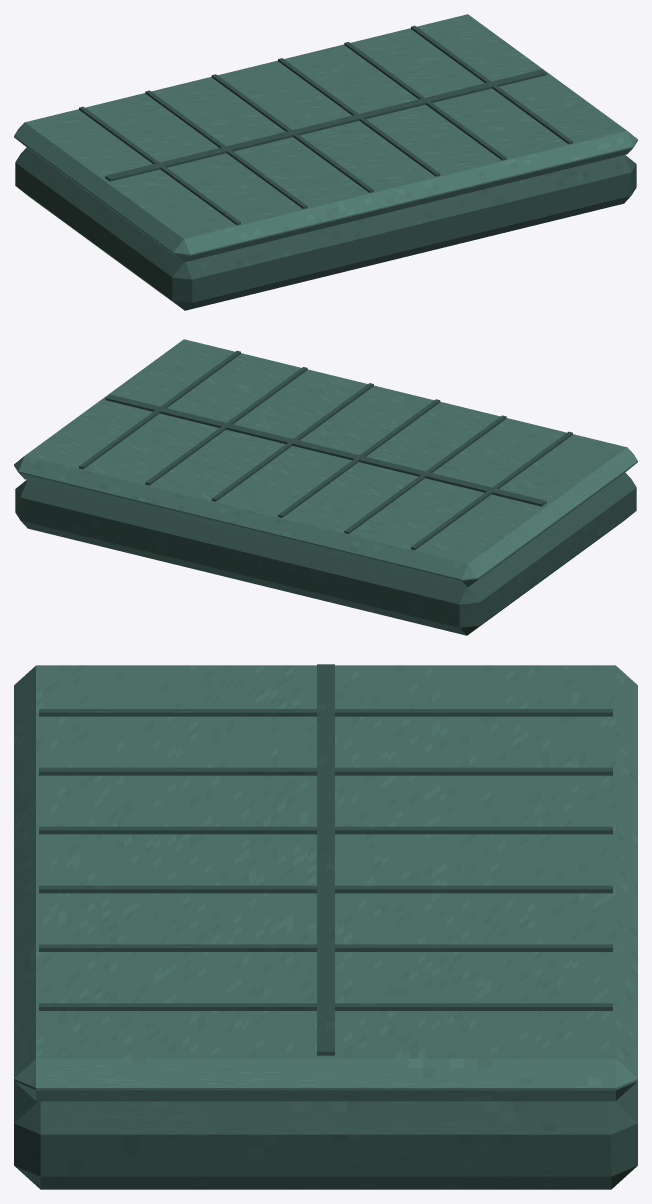
The model's file is pillbox_large.glb.
The picture shows the model from 3 angles, top to bottom: view 1: azimuth 30°, elevation 25°; view 2: azimuth 150°, elevation 25°; view 3: azimuth 270°, elevation 25°; orthographic projection. The views are drawn at different scales.
Visible parts, largest first — view 1: block_contrasting lid, block_case base, block_second week divider, block_divider 2, block_divider 4, block_divider 1, block_divider 3, block_divider 5, block_divider 6; view 2: block_contrasting lid, block_case base, block_second week divider, block_divider 2, block_divider 3, block_divider 1, block_divider 6, block_divider 4, block_divider 5; view 3: block_contrasting lid, block_case base, block_second week divider, block_divider 2, block_divider 3, block_divider 4, block_divider 1, block_divider 5, block_divider 6.
Boxes of the visible parts, x1,y1,x2,y2 form: block_contrasting lid: (14, 14, 637, 262); block_case base: (15, 147, 636, 310); block_second week divider: (105, 69, 546, 181); block_divider 2: (145, 90, 307, 208); block_divider 4: (278, 58, 440, 176); block_divider 1: (79, 106, 240, 225); block_divider 3: (211, 74, 373, 192); block_divider 5: (344, 42, 506, 160); block_divider 6: (411, 25, 572, 144); block_contrasting lid: (14, 339, 637, 587); block_case base: (15, 472, 636, 635); block_second week divider: (105, 394, 546, 506); block_divider 2: (344, 415, 506, 533); block_divider 3: (278, 399, 440, 517); block_divider 1: (411, 431, 572, 550); block_divider 6: (79, 350, 240, 469); block_divider 4: (211, 383, 373, 501); block_divider 5: (145, 367, 307, 485); block_contrasting lid: (14, 665, 637, 1101); block_case base: (14, 1081, 637, 1189); block_second week divider: (317, 664, 334, 1055); block_divider 2: (39, 767, 612, 775); block_divider 3: (39, 826, 612, 834); block_divider 4: (39, 885, 612, 893); block_divider 1: (39, 709, 612, 716); block_divider 5: (39, 944, 612, 951); block_divider 6: (39, 1003, 612, 1010).
Size of the model in its own units: 0.22 by 0.0341 by 0.1408.
1 material, 1 textured.
